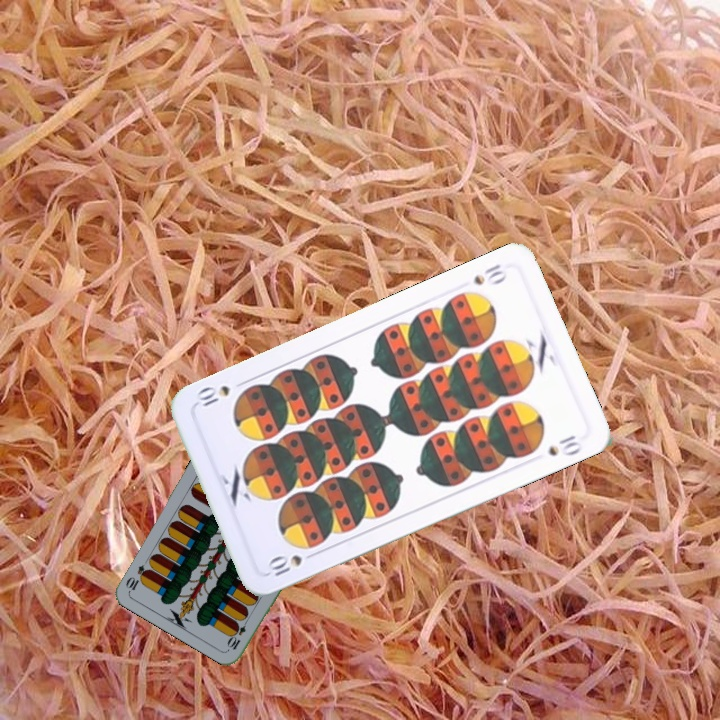E10: (224, 614, 251, 652)
S10: (263, 550, 305, 579), (469, 260, 510, 288)
